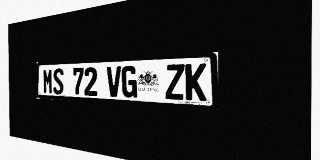2: (84, 67, 97, 96)
7: (72, 67, 84, 95)
G: (122, 66, 137, 98)
K: (185, 63, 206, 101)
M: (43, 69, 53, 94)
S: (53, 68, 64, 95)
V: (107, 66, 121, 97)
Z: (165, 64, 185, 100)
